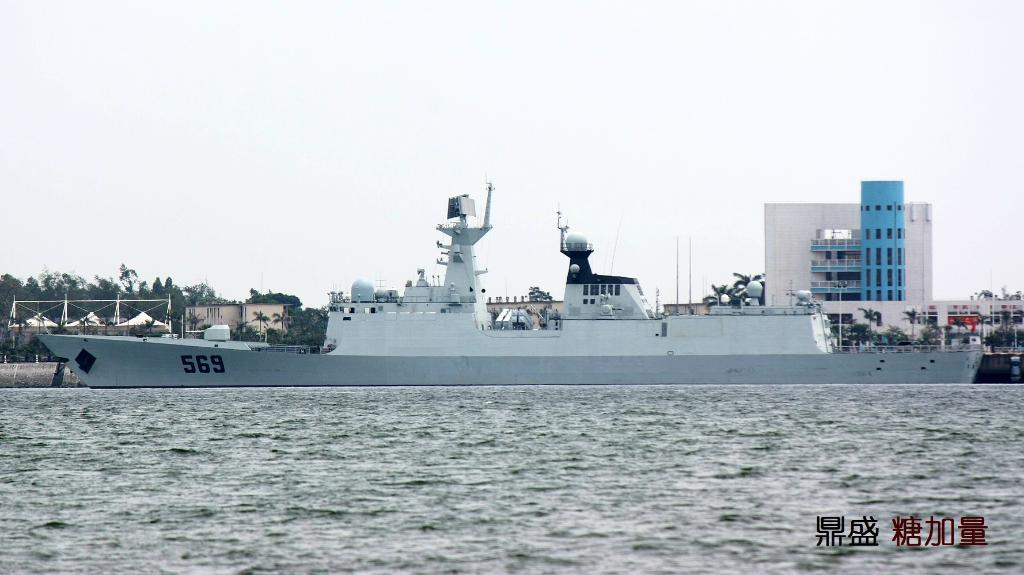Warship: (22, 172, 988, 390)
